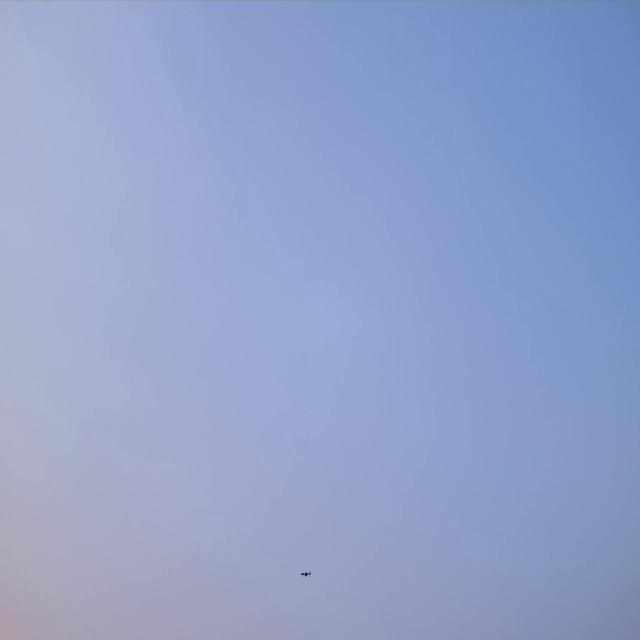UAV: (298, 568, 314, 578)
